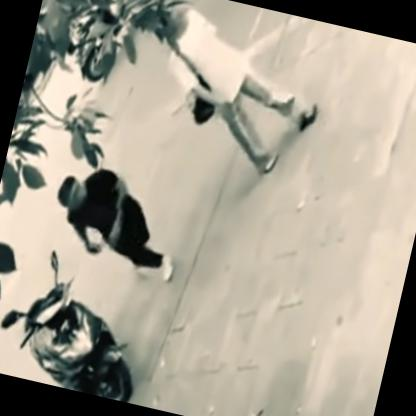Human Body: (118, 0, 341, 190), (40, 156, 196, 283)
